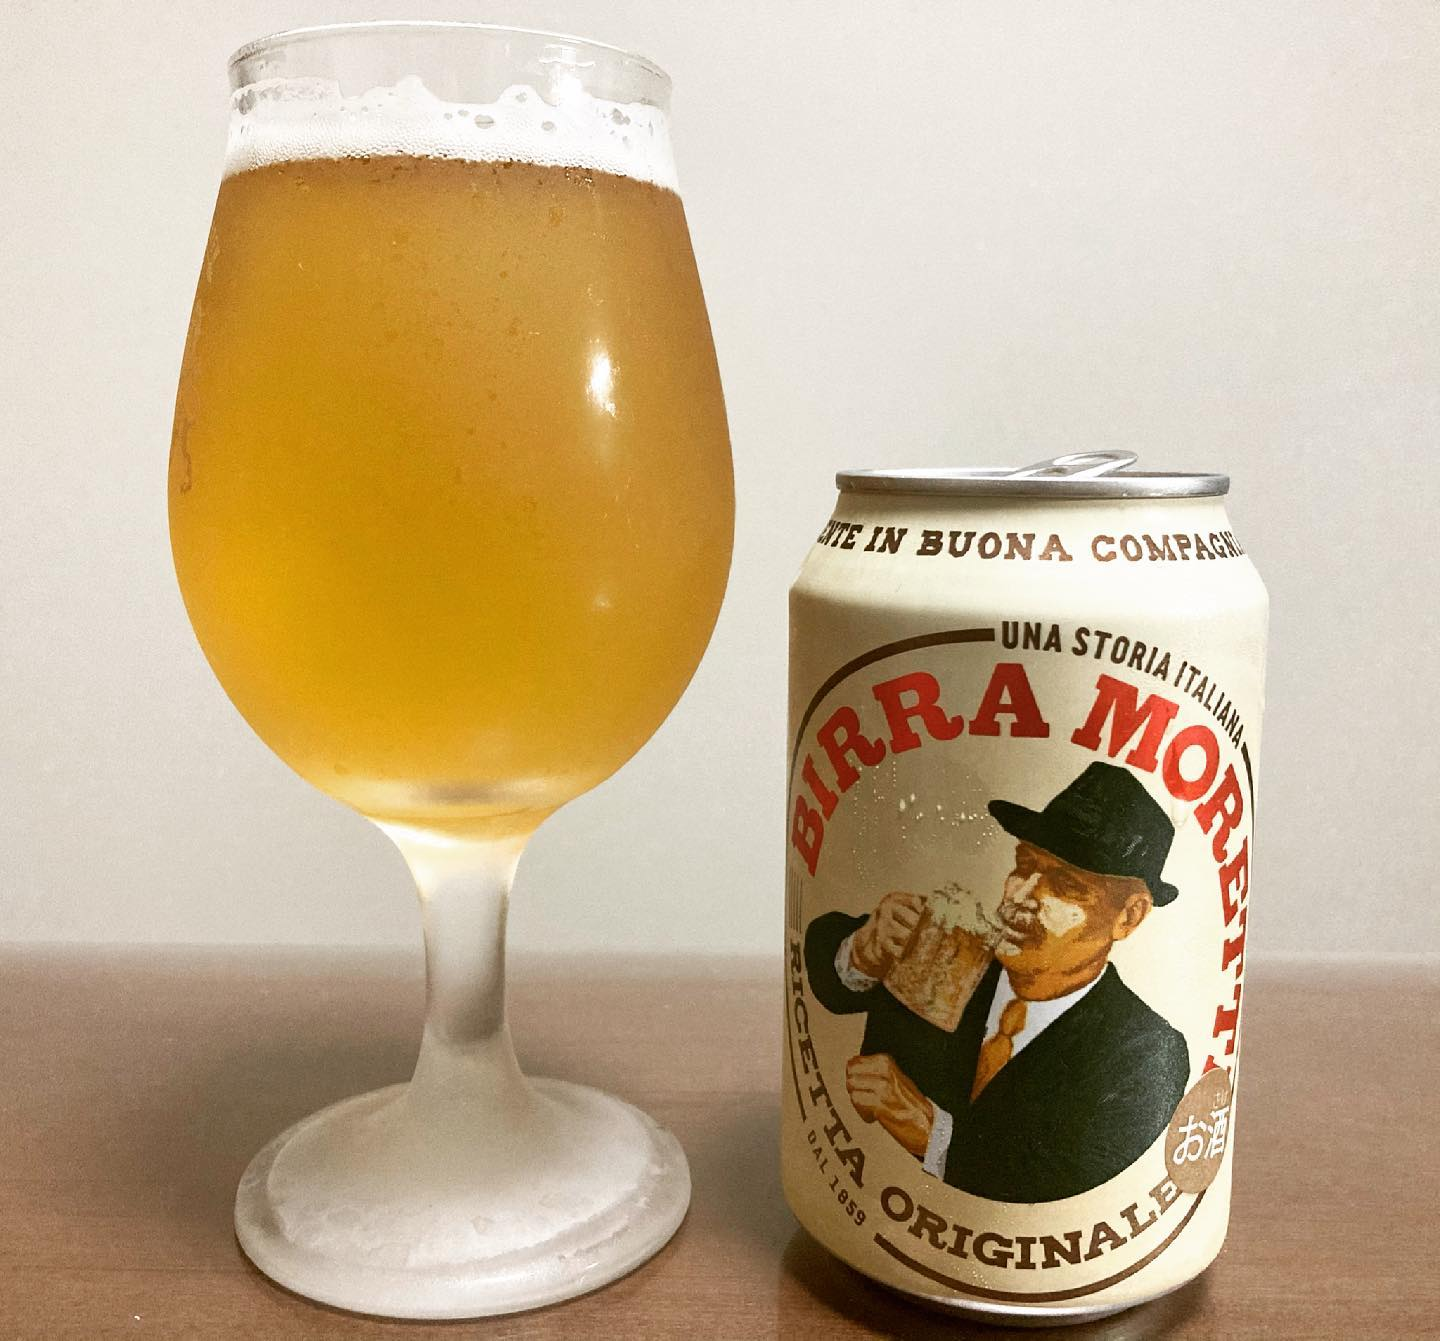alcohol: (157, 13, 743, 1333), (769, 439, 1277, 1336)
